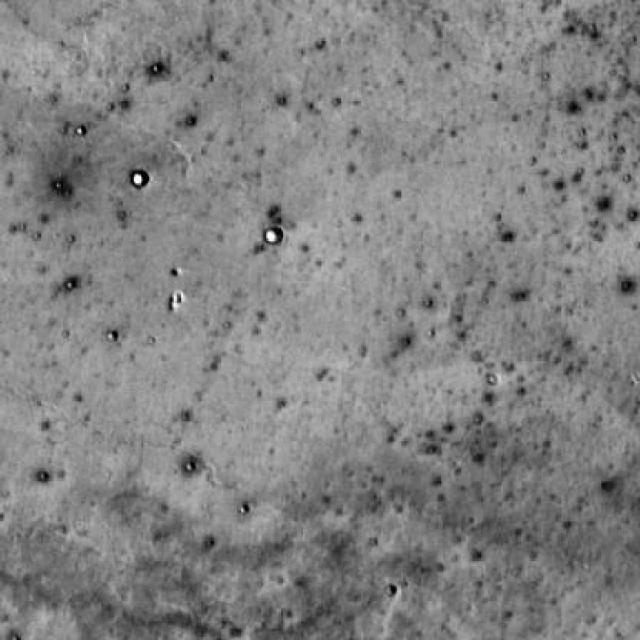crater: (132, 172, 150, 188), (266, 226, 283, 242)
